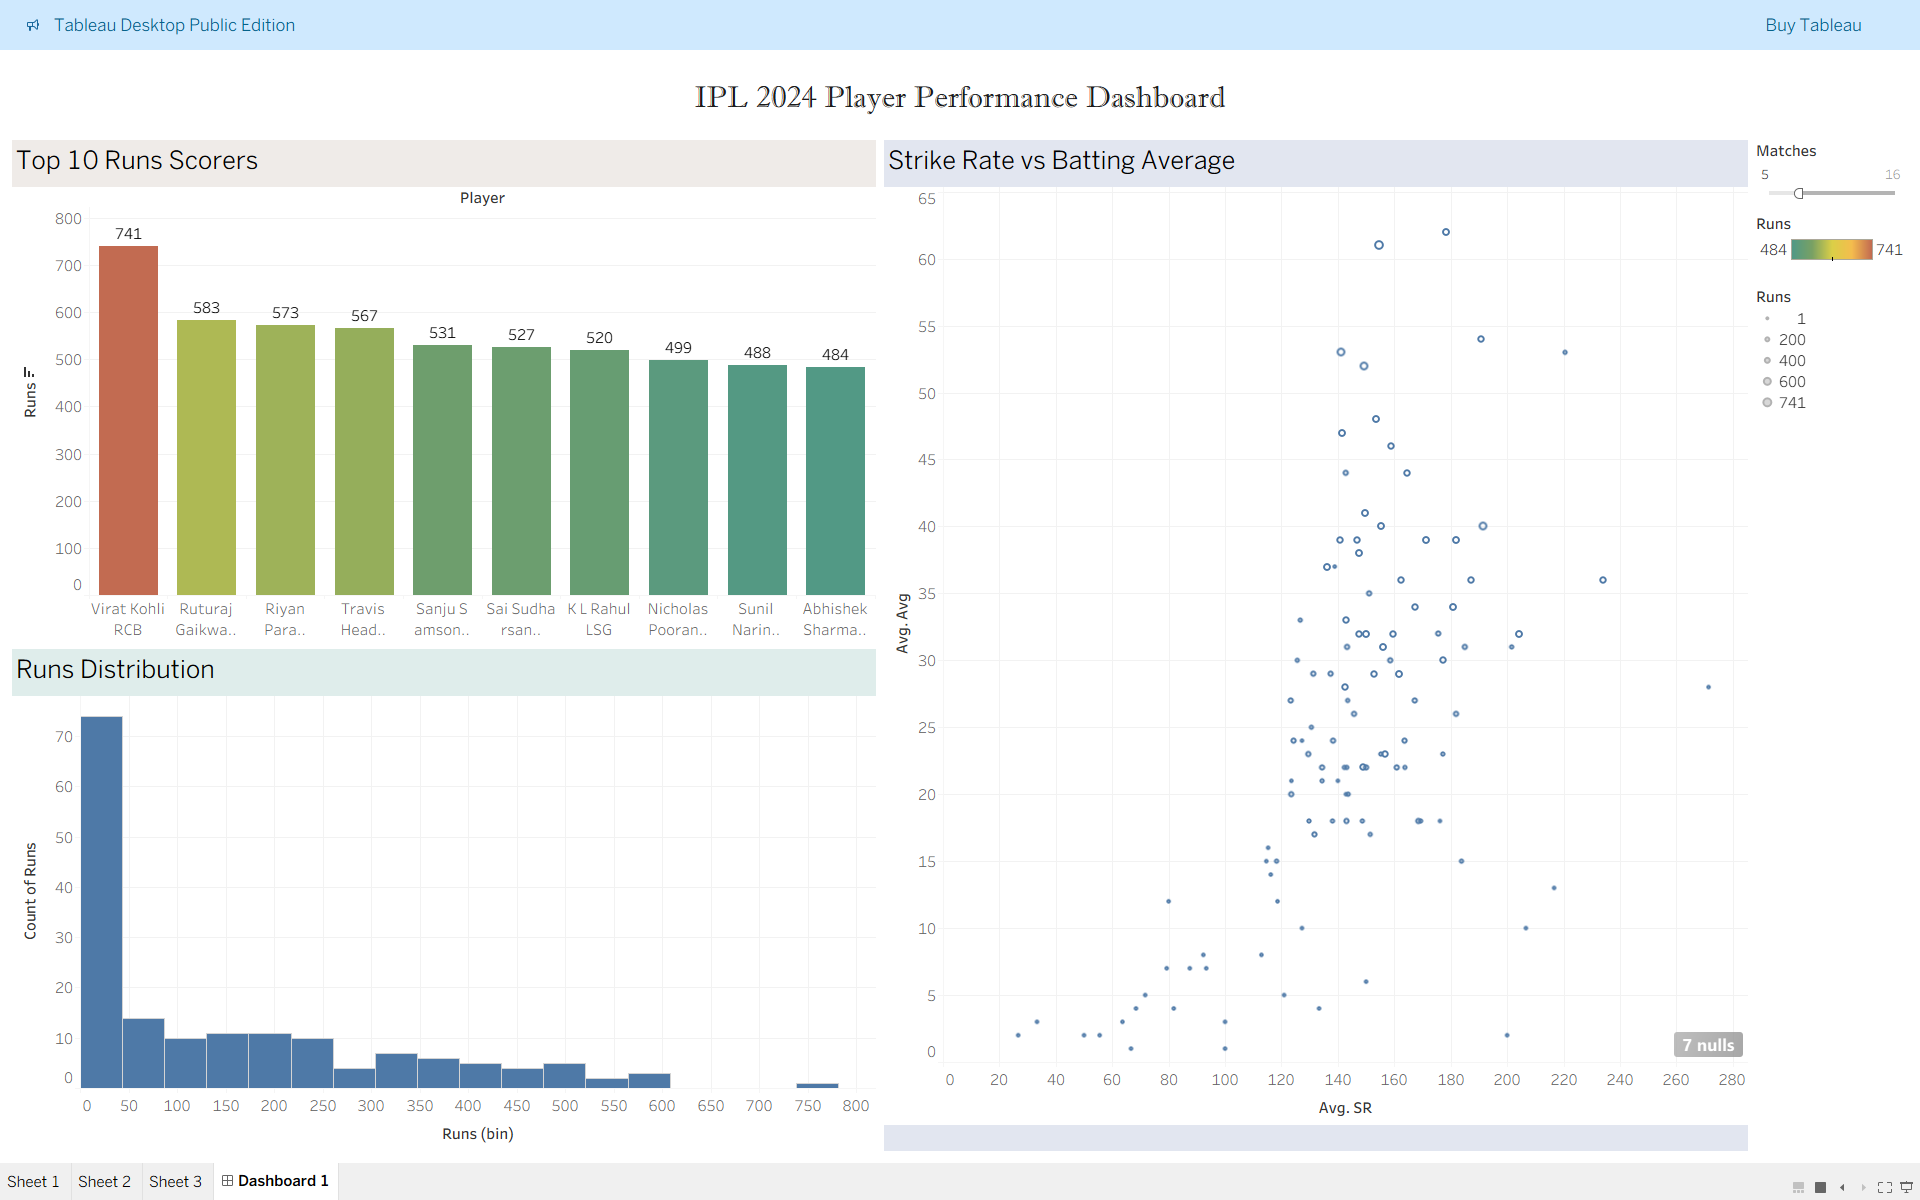

This screenshot's page, from the dashboard's own definition file:
{"tool":"tableau","page":{"name":"Dashboard 1","canvas":[1000,1000],"units":"permille","ordinal":0},"visuals":[{"type":"title","box":[5.2,9.2,989.6,90]},{"type":"worksheet","title":"Sheet 1","mark":"Automatic","rows":["Runs"],"cols":["Player"],"box":[5.2,99.2,442.7,445.7]},{"type":"worksheet","title":"Sheet 2","mark":"Automatic","rows":["Avg"],"cols":["SR"],"box":[447.9,99.2,442.7,891.6]},{"type":"filter","title":"Sheet 1","param":"[federated.1qgde3w17lq1as1d48a1e0hj20q8].[none:Matches:qk]","box":[890.6,99.2,104.2,84.2]},{"type":"legend","title":"Sheet 1","param":"[federated.1qgde3w17lq1as1d48a1e0hj20q8].[sum:Runs:qk]","box":[890.6,183.4,104.2,84.2]},{"type":"legend","title":"Sheet 2","param":"[federated.1qgde3w17lq1as1d48a1e0hj20q8].[sum:Runs:qk]","box":[890.6,267.6,104.2,155.7]},{"type":"worksheet","title":"Sheet 3","mark":"Automatic","rows":["Runs"],"cols":["Runs (bin)"],"box":[5.2,544.9,442.7,445.8]}]}

Visuals, with their boxes on the dashboard's canvas, which has no fixed pixel size, in thousandths of its width and height (x1, y1, x2, y2). These are canvas units, not pixel positions in the 1920x1200 screenshot, which may show the page scaled, cropped or inside an application window:
title: BBox(5, 9, 995, 99)
"Sheet 1" worksheet: BBox(5, 99, 448, 545)
"Sheet 2" worksheet: BBox(448, 99, 891, 991)
"Sheet 1" filter: BBox(891, 99, 995, 183)
"Sheet 1" legend: BBox(891, 183, 995, 268)
"Sheet 2" legend: BBox(891, 268, 995, 423)
"Sheet 3" worksheet: BBox(5, 545, 448, 991)
